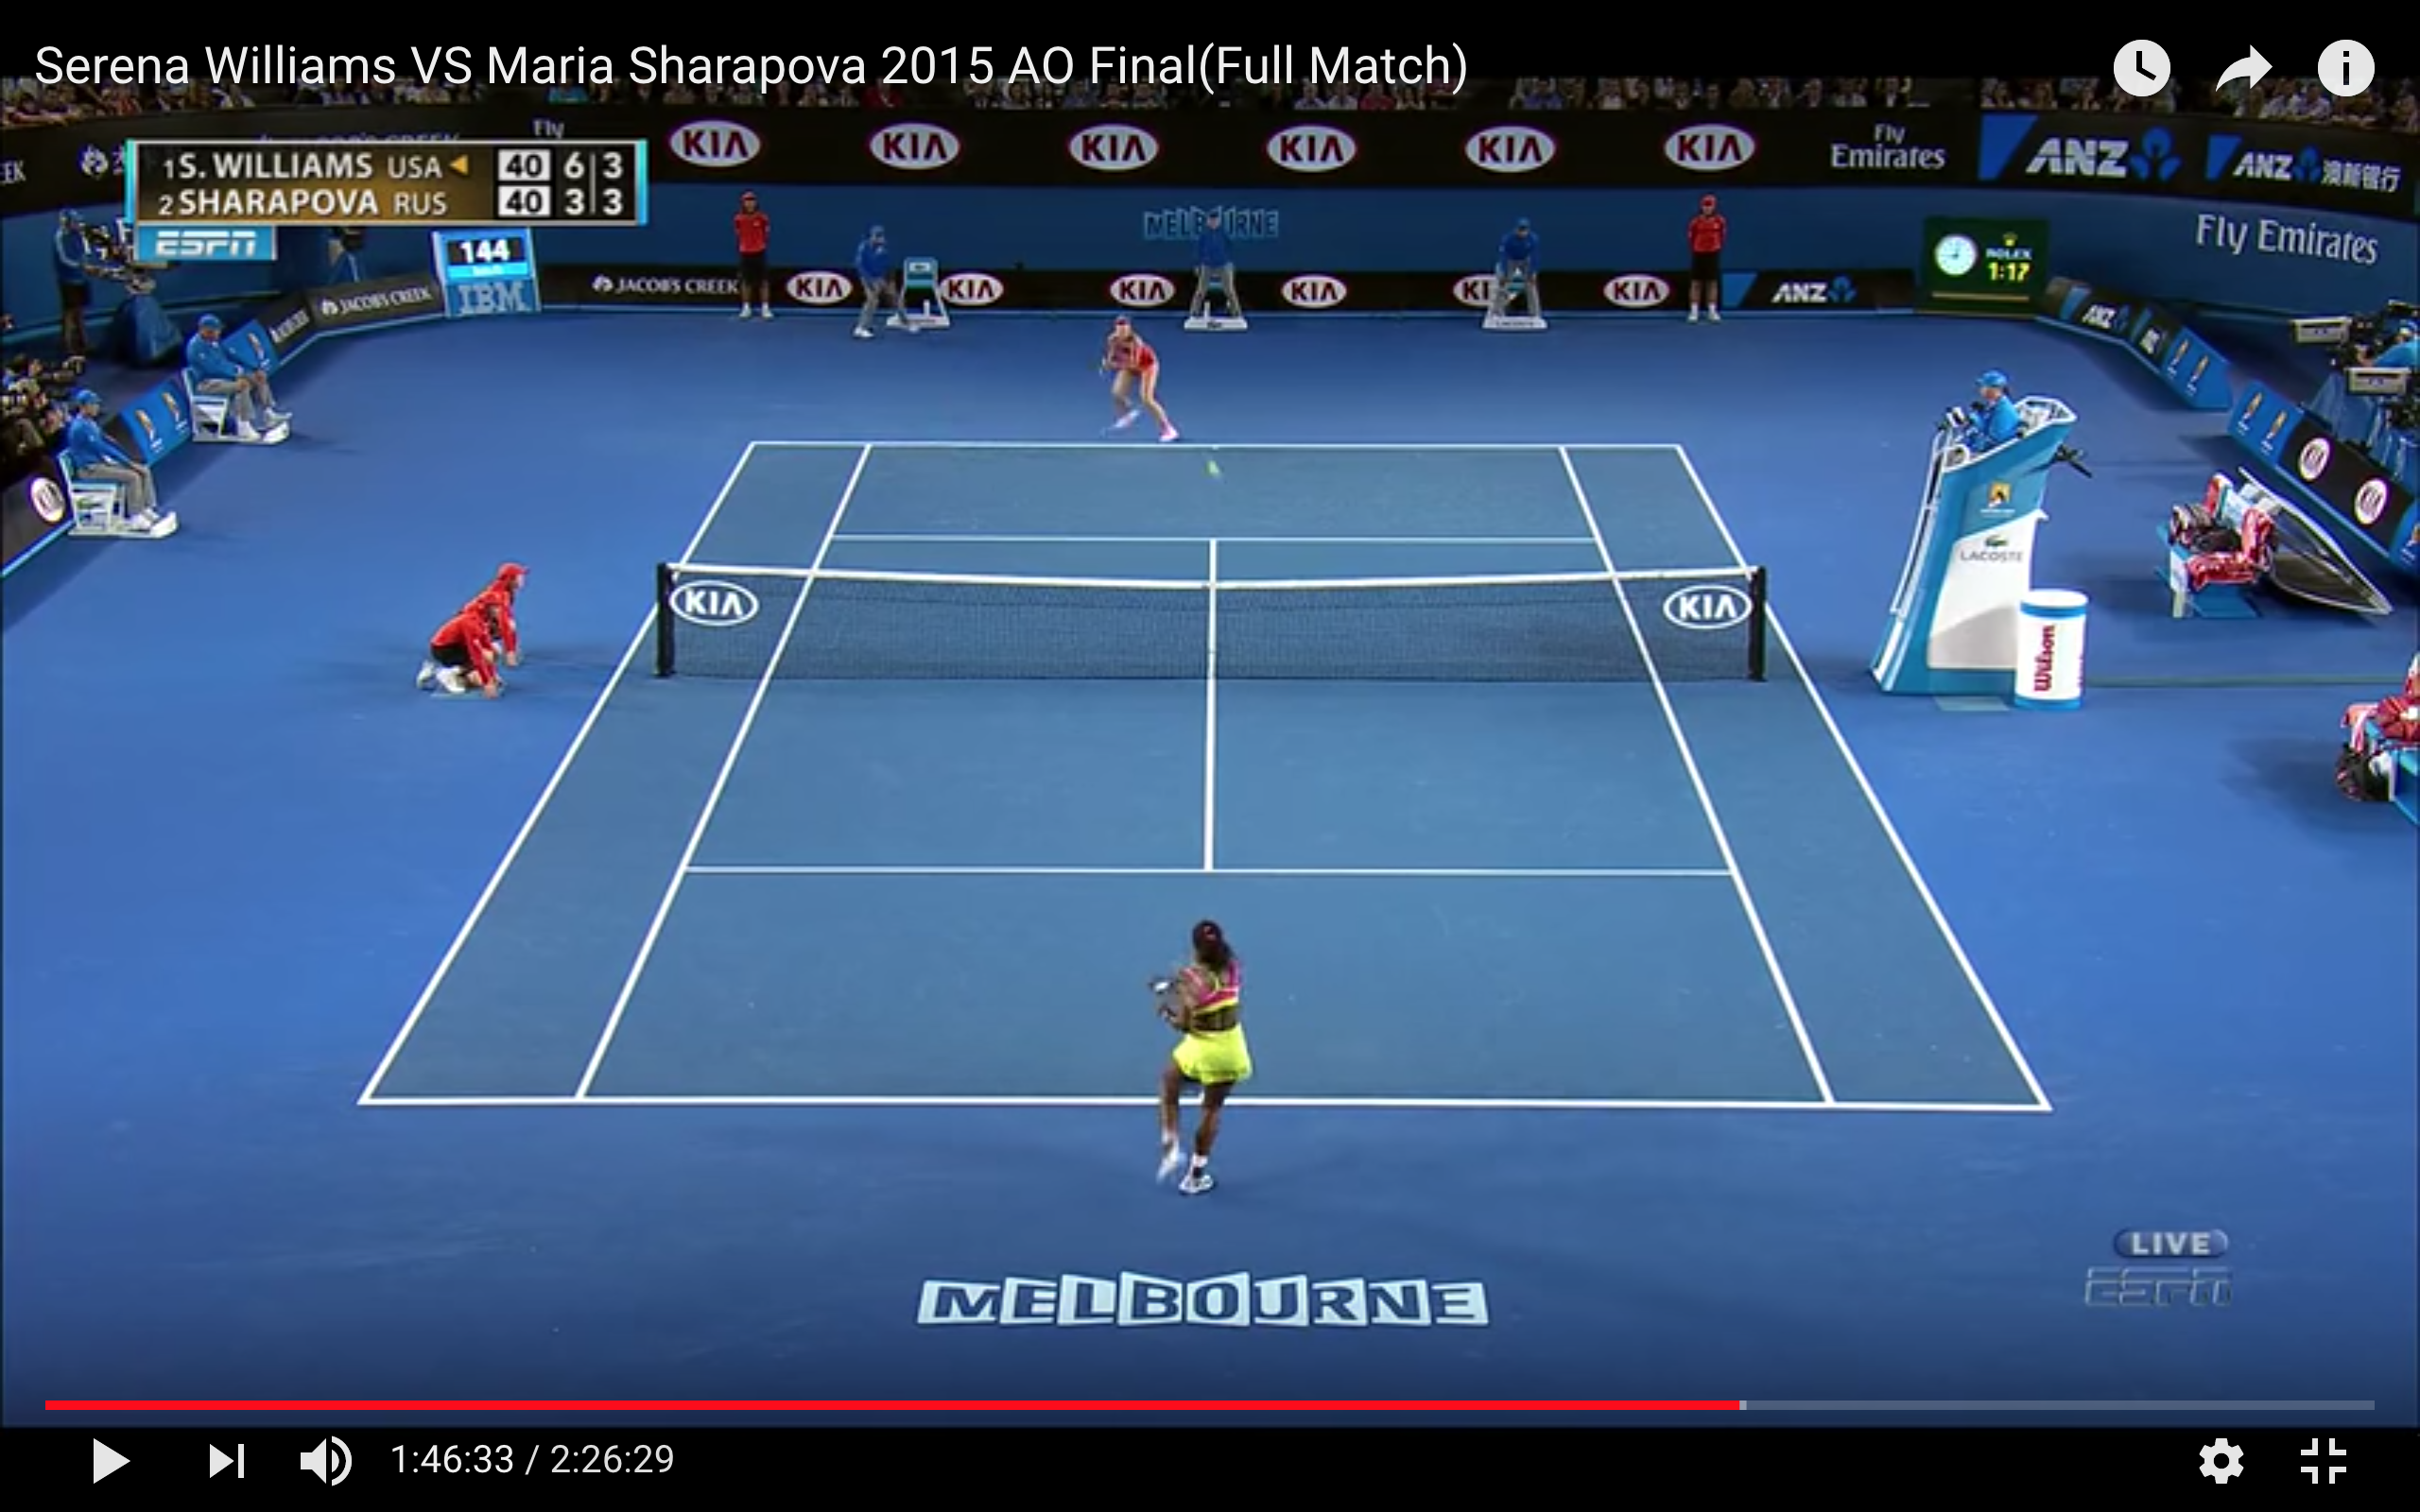tennis ball: (1199, 455, 1230, 481)
tennis player: (1138, 919, 1260, 1199), (1096, 309, 1184, 446)
